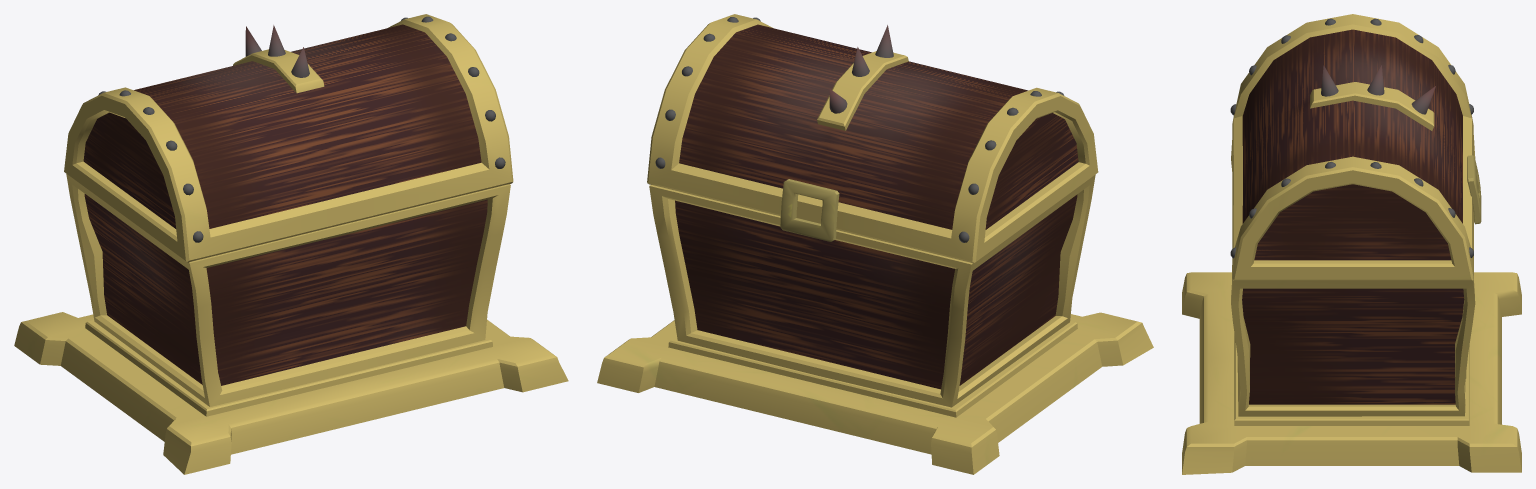
The model's file is TChest_lvl2.fbx.
The picture shows the model from 3 angles, left to right: view 1: azimuth 30°, elevation 25°; view 2: azimuth 150°, elevation 25°; view 3: azimuth 270°, elevation 25°; orthographic projection. The views are drawn at different scales.
Visible parts, largest first — view 1: Cube.004, Cylinder.002; view 2: Cube.004, Cylinder.002, Cube.005, Icosphere.015; view 3: Cube.004, Cylinder.002, Cube.005, Icosphere.015.
Part boxes in pixels (bbox=[...]): Cube.004: bbox=[14, 174, 568, 474]; Cylinder.002: bbox=[64, 14, 513, 262]; Cube.004: bbox=[597, 174, 1153, 474]; Cylinder.002: bbox=[647, 14, 1098, 263]; Cube.005: bbox=[780, 179, 839, 241]; Icosphere.015: bbox=[655, 17, 1064, 242]; Cube.004: bbox=[1182, 135, 1521, 474]; Cylinder.002: bbox=[1232, 14, 1473, 280]; Cube.005: bbox=[1467, 155, 1481, 224]; Icosphere.015: bbox=[1281, 18, 1473, 257].
Bounding box in the file's own units: 193 × 157 × 152.
